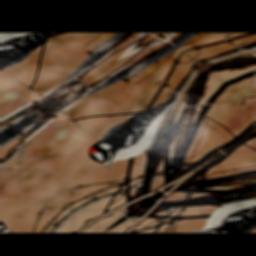Woodpecker: (80, 88, 206, 176)
